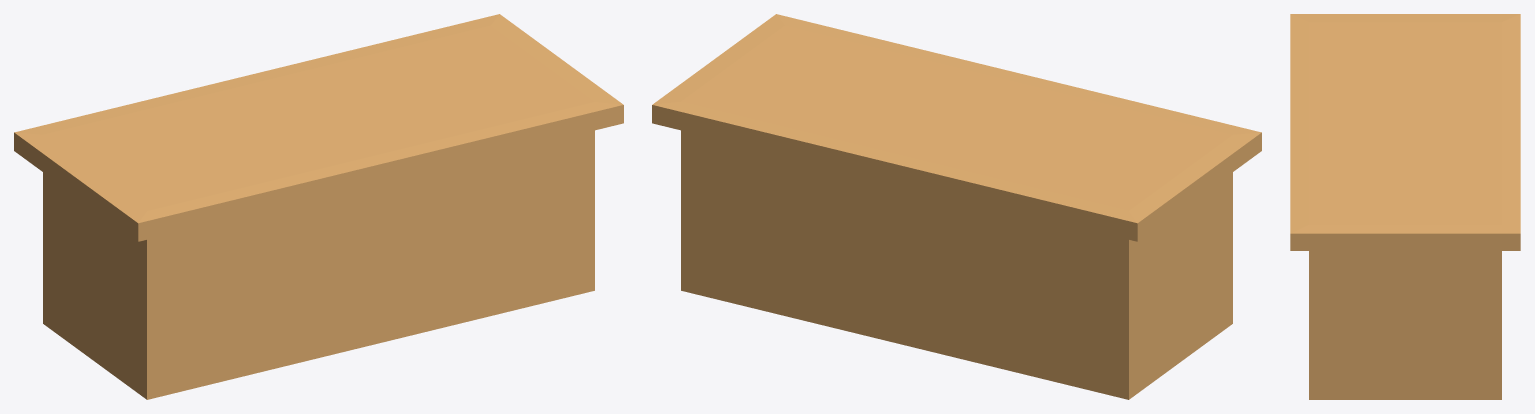
File: Table.fbx
3 views of the same model, side by side, from view 1: azimuth 30°, elevation 25°; view 2: azimuth 150°, elevation 25°; view 3: azimuth 270°, elevation 25° (orthographic). The views are drawn at different scales.
Visible parts, largest first — view 1: Table; view 2: Table; view 3: Table.
Part boxes in pixels (x1,y1,x2,y2): Table: (14, 14, 623, 399); Table: (652, 14, 1261, 399); Table: (1290, 14, 1520, 399).
Size of the model in its own units: 833 by 310 by 369.
